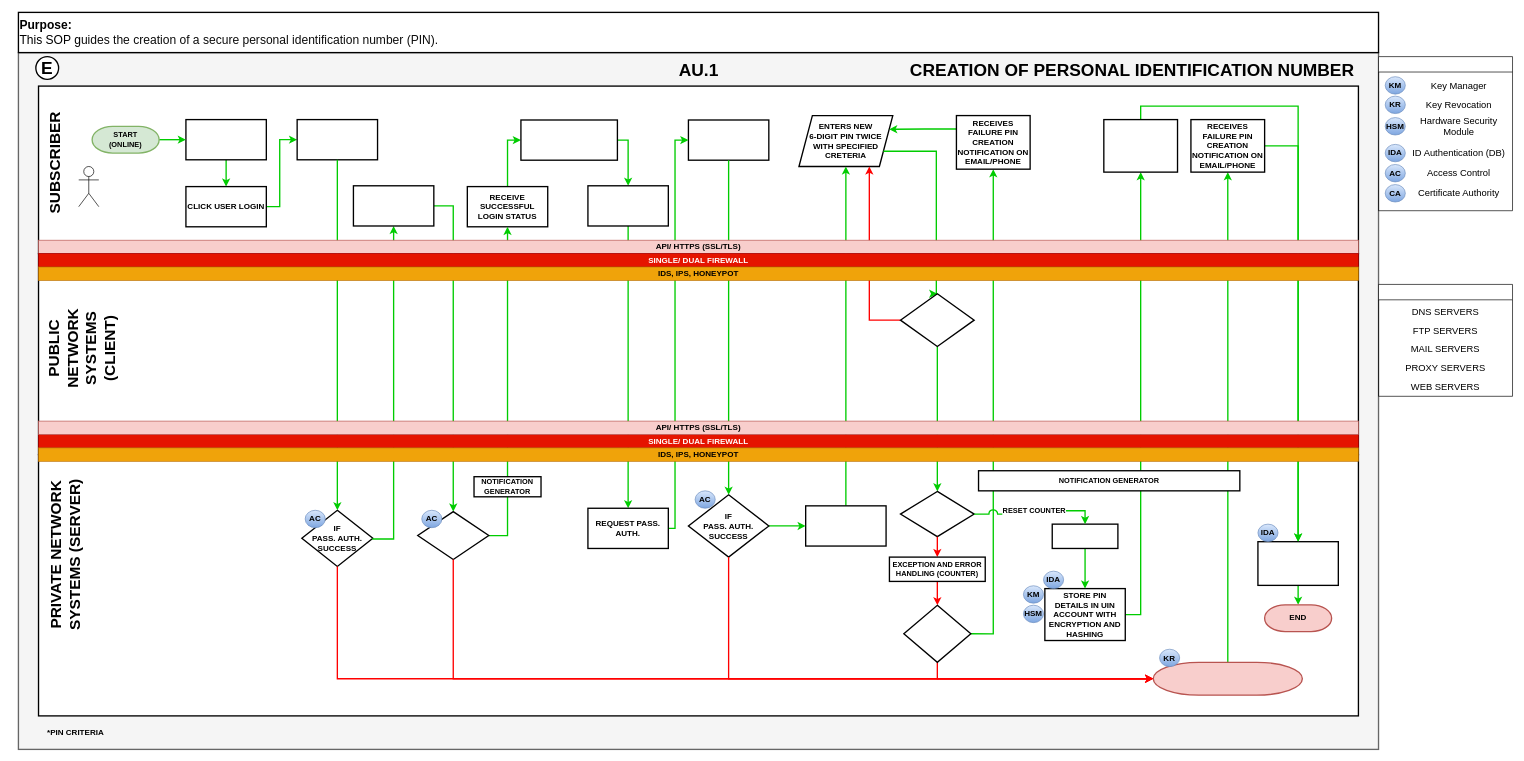
Image size: 1524x761. Some labels were removed from this diagram. The box of each missing label's shape, as (x1, y1, x2, y2) in pixels:
2FA USING (ONE) OTP: AU.2.C MEM. SEC.: AU.1.D: (352, 185, 434, 226)
AUTHENTICATE USING PASSWORD: AU.1.B: (687, 119, 769, 161)
BIND PIN AUTHENTICATOR: (1051, 523, 1118, 549)
CLICK CONFIGURE PIN: (587, 185, 669, 226)
IF 2FA SUCCESS: (417, 511, 489, 560)
IF BOTH ENTERED PIN MATCHES: (899, 293, 975, 347)
IF PIN CRITERIA* MATCHES: (899, 490, 975, 537)
IF RETRY COUNT <=3: (903, 604, 971, 663)
LEGEND: (1378, 56, 1513, 211)
LOGIN - PASS. AUTH.: AU.1.B: (296, 119, 378, 160)
LOGS THE PROCESS AND STATUS: (1257, 541, 1339, 586)
NAVIGATE SETTINGS -> SECURITY-> 'PIN': (520, 119, 618, 161)
PROMPT TO CREATE NEW 6-DIGIT PIN: (805, 505, 886, 546)
PUBLIC NETWORK: (1378, 284, 1513, 396)
RECEIVES SUCCESSFUL PIN CREATION NOTIFICATION ON EMAIL/PHONE: (1103, 119, 1178, 172)
TERMINATE PROCESS: LOCK UIN ACCOUNT FOR 24 HOURS: (1152, 661, 1303, 695)
USER: (78, 166, 99, 207)
VISIT DID PORTAL: (185, 119, 267, 160)
